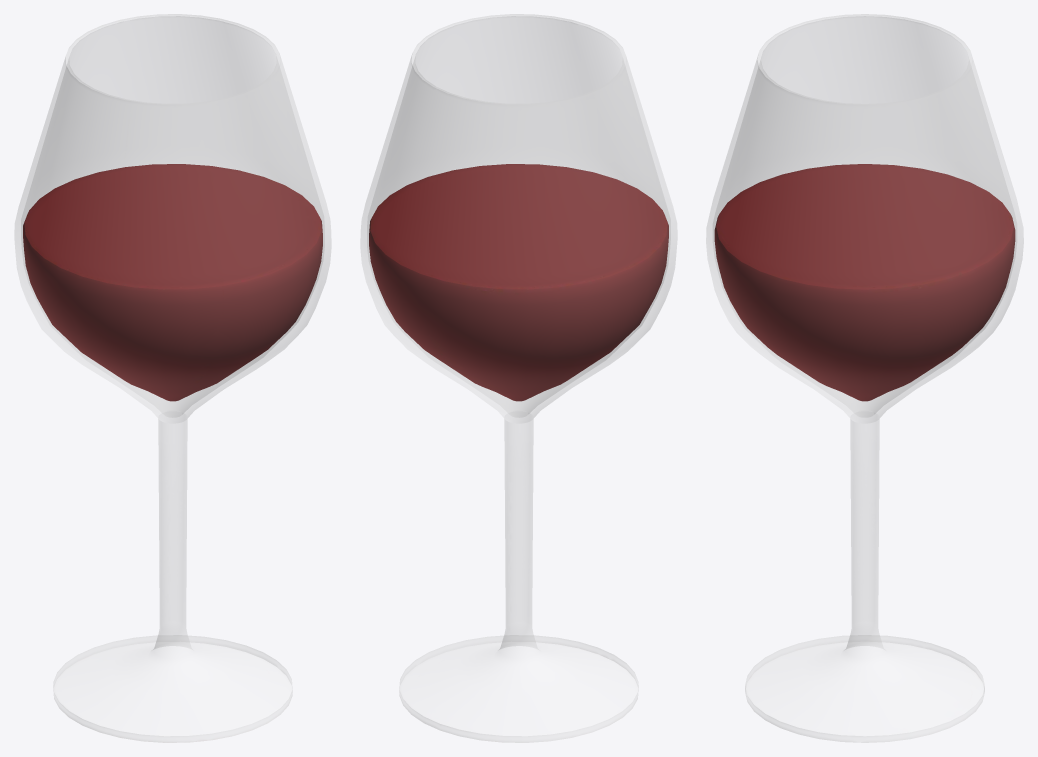
Rendered from red_wine_glass-transformed.glb.
3 views of the same model, side by side, from view 1: azimuth 30°, elevation 25°; view 2: azimuth 150°, elevation 25°; view 3: azimuth 270°, elevation 25° (orthographic).
Parts seen in each view (by area): view 1: WineGlassMerged_WineGlassMerged_0; view 2: WineGlassMerged_WineGlassMerged_0; view 3: WineGlassMerged_WineGlassMerged_0.
Part boxes in pixels (left/top/right/bottom): WineGlassMerged_WineGlassMerged_0: left=14, top=14, right=331, bottom=742; WineGlassMerged_WineGlassMerged_0: left=360, top=14, right=677, bottom=742; WineGlassMerged_WineGlassMerged_0: left=706, top=14, right=1023, bottom=742.
Bounding box in the file's own units: 0.0836 × 0.1836 × 0.0836.
Materials: 1 (1 with a texture image).
